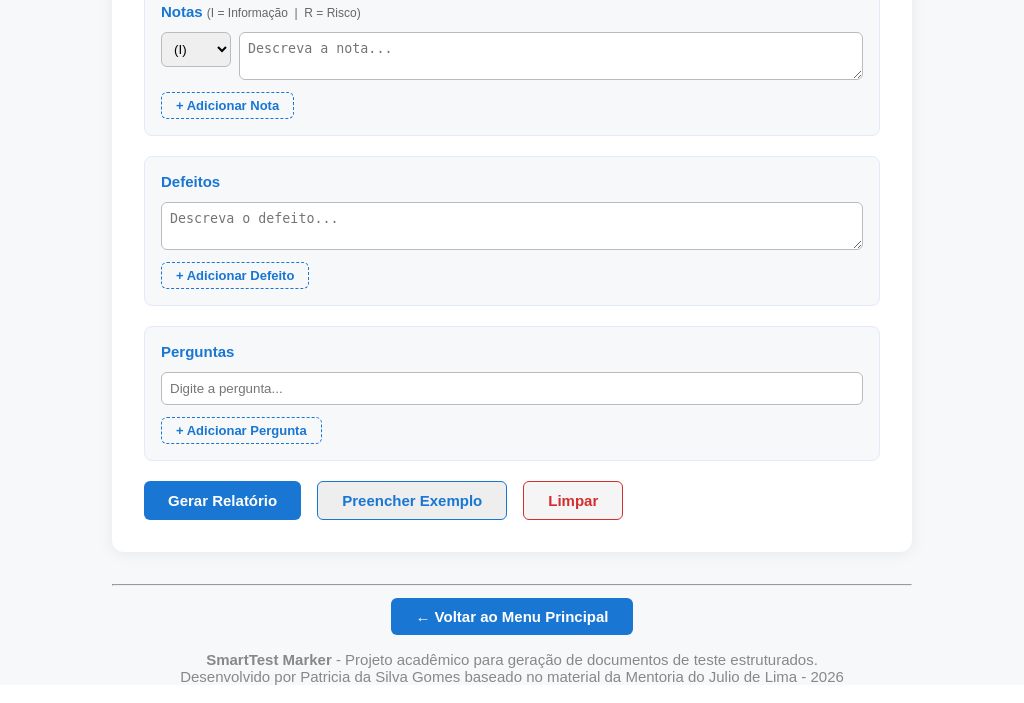
Test: Frontend — Gerador de Relatório de Sessão › Geração de relatório de sessão › deve gerar e exibir um relatório na sidebar
(page scrolled)
Click the button "Preencher Exemplo" at [412, 501], box [317,481,507,520]
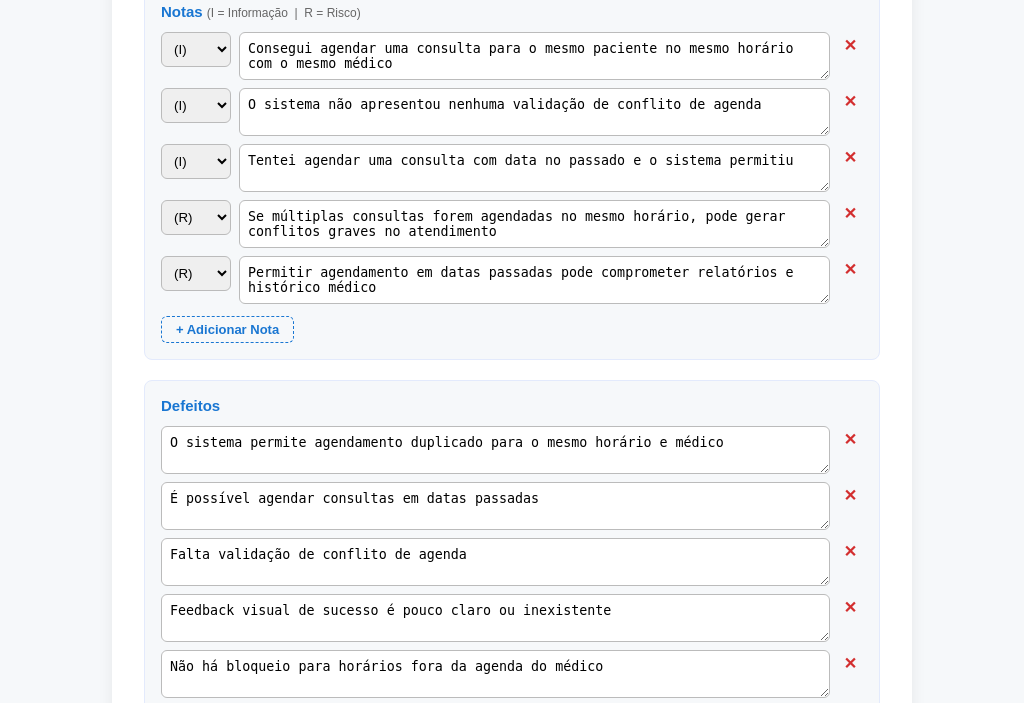
Scroll
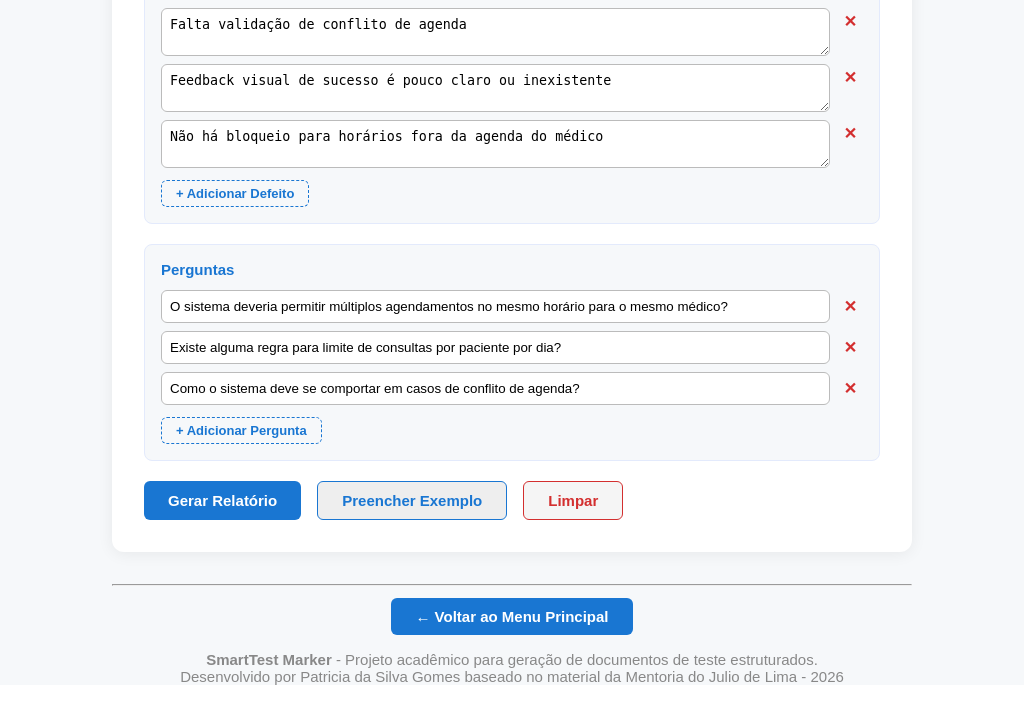
Click the button "Gerar Relatório" at [223, 501], box [144,481,301,520]
(page scrolled)
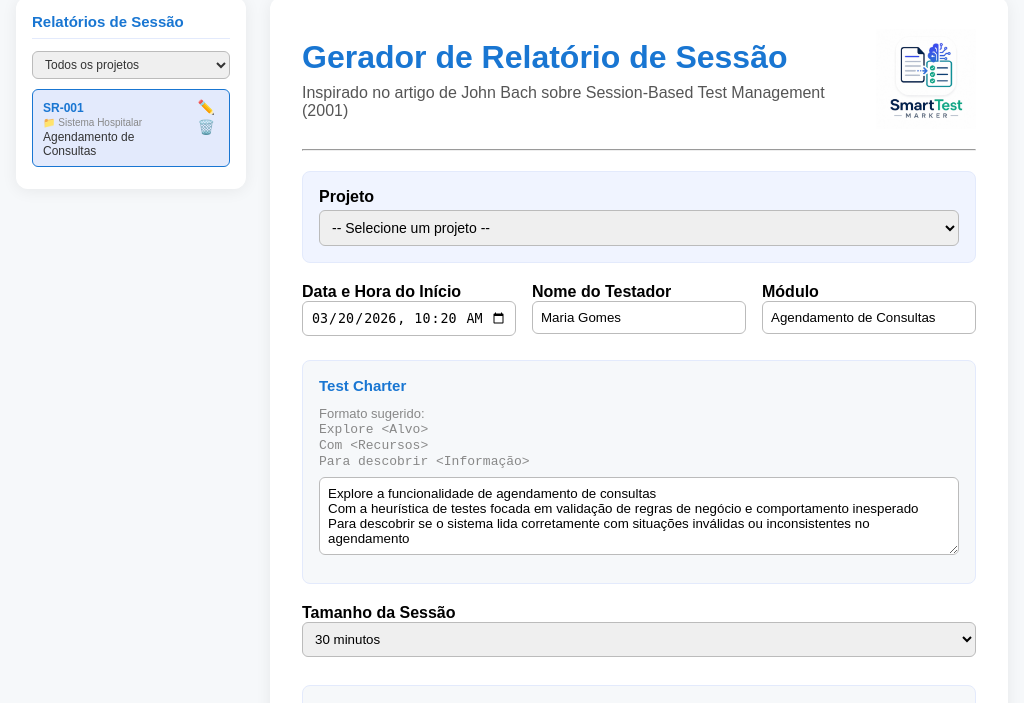
Expected: the text "SR-" is shown, [43,101,84,115]
